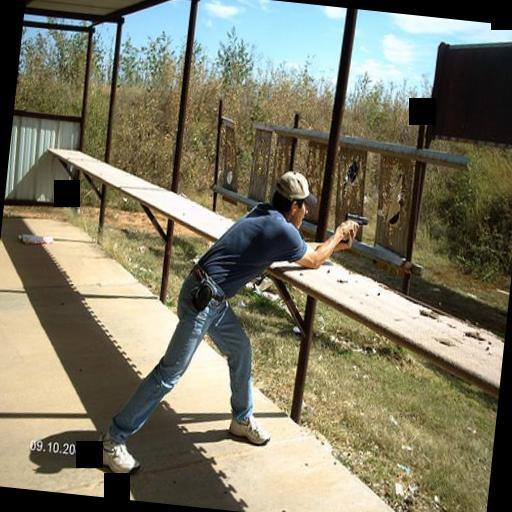Handgun: (338, 208, 368, 246)
